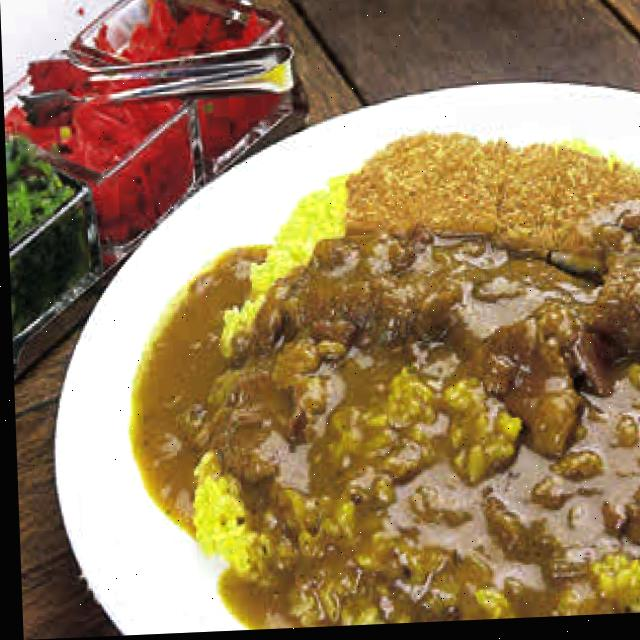猪肉菜式: (26, 63, 640, 639)
